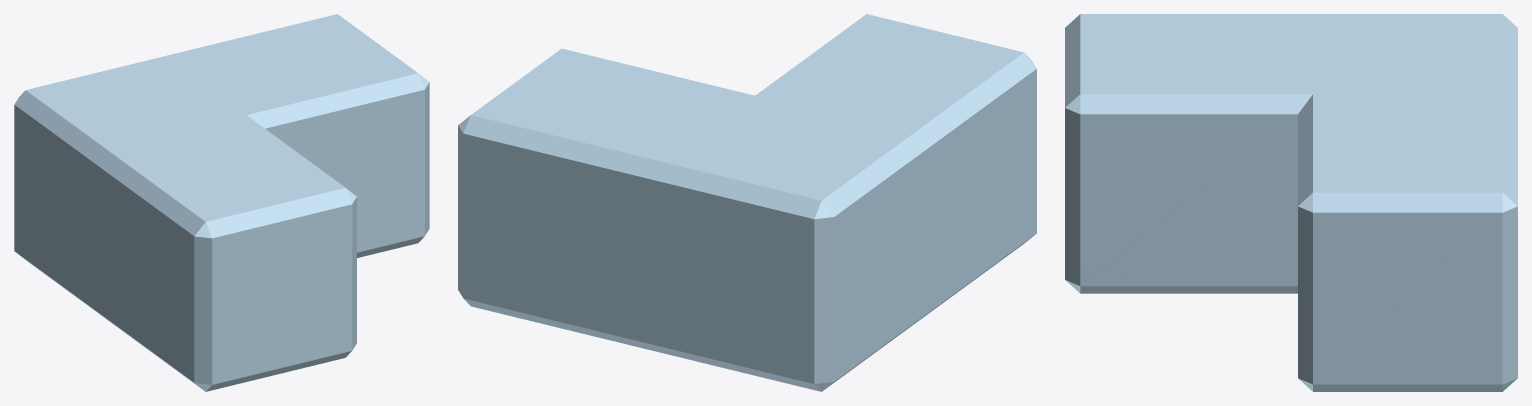
Rendered from R4B_CornerL3.glb.
3 views of the same model, side by side, from view 1: azimuth 30°, elevation 25°; view 2: azimuth 150°, elevation 25°; view 3: azimuth 270°, elevation 25° (orthographic). The views are drawn at different scales.
Visible parts, largest first — view 1: R4B_CornerL3; view 2: R4B_CornerL3; view 3: R4B_CornerL3.
Part boxes in pixels (<box>): R4B_CornerL3: <box>14,14,429,391</box>; R4B_CornerL3: <box>458,14,1036,391</box>; R4B_CornerL3: <box>1065,14,1517,391</box>.
Bounding box in the file's own units: 1.07 × 0.52 × 1.07.
